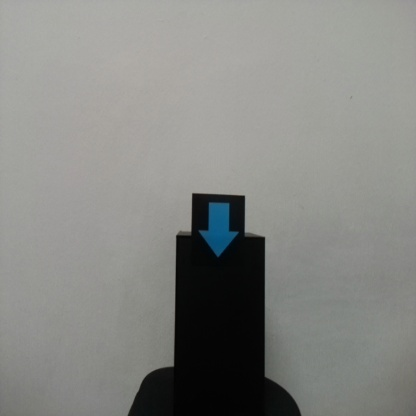id_2: (192, 194, 246, 271)
